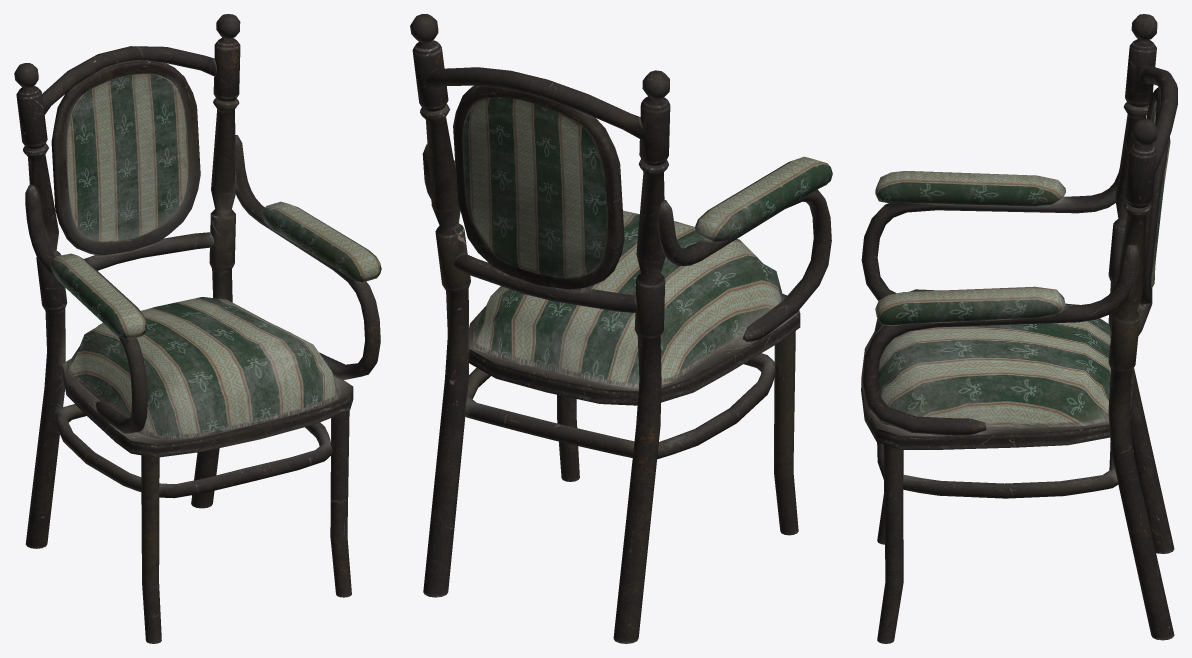
The model's file is chair8.glb.
3 views of the same model, side by side, from view 1: azimuth 30°, elevation 25°; view 2: azimuth 150°, elevation 25°; view 3: azimuth 270°, elevation 25° (orthographic). The views are drawn at different scales.
Visible parts, largest first — view 1: Cube.007_Material.002_0; view 2: Cube.007_Material.002_0; view 3: Cube.007_Material.002_0.
Part boxes in pixels (box(x1,y1,x2,y2)): Cube.007_Material.002_0: box(14, 14, 381, 643); Cube.007_Material.002_0: box(410, 14, 832, 643); Cube.007_Material.002_0: box(861, 14, 1177, 643).
Bounding box in the file's own units: 0.5406 × 0.9585 × 0.5243.
Materials: 1 (1 with a texture image).
